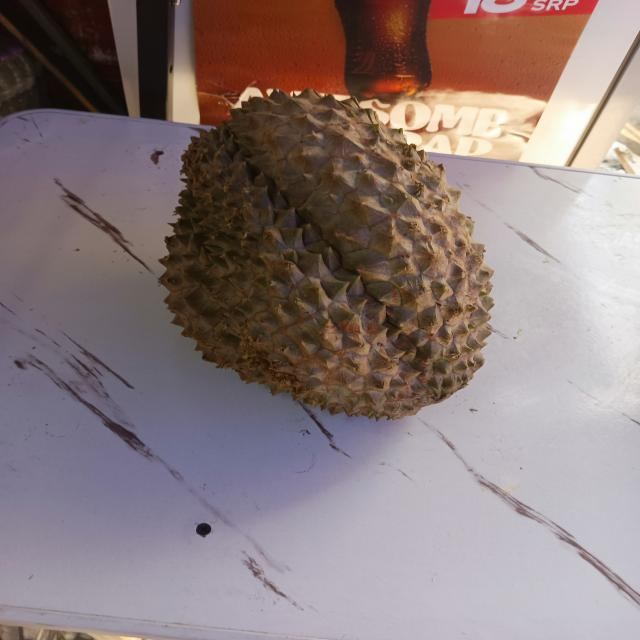mature: (161, 89, 493, 420)
